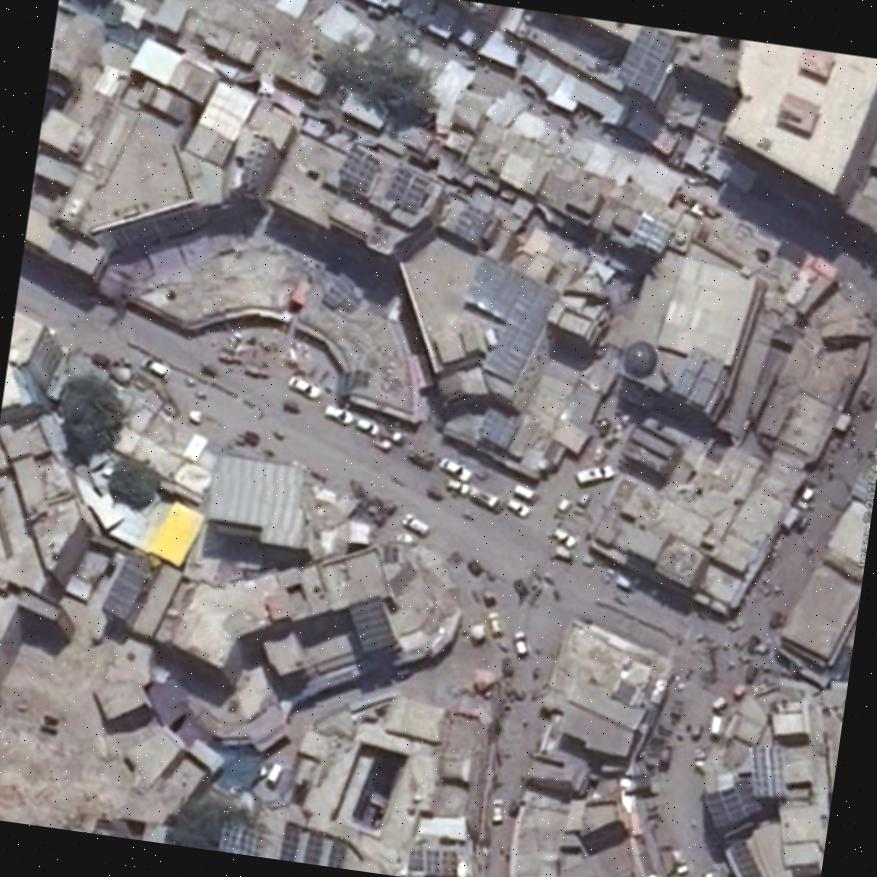Solarpanel: (441, 255, 560, 382), (616, 26, 676, 92), (102, 551, 150, 617), (706, 774, 758, 830), (347, 596, 397, 649), (336, 143, 379, 189), (384, 168, 429, 211), (321, 273, 364, 318), (217, 816, 264, 856), (750, 745, 786, 796), (452, 205, 490, 245), (478, 406, 517, 444), (729, 842, 761, 877), (421, 849, 457, 876), (300, 828, 325, 864), (326, 836, 352, 867), (280, 821, 298, 859)
